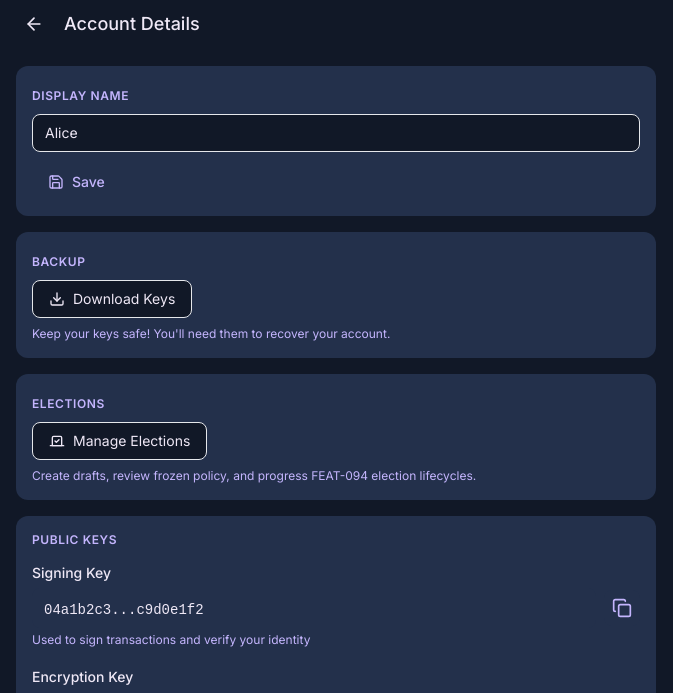
Test: AccountPage › Save Flow › should show error state when transaction fails
Change name
Replace the text in the field showing "Alice" with "New Name" at (336, 133), box x1=32 y1=114 x2=640 y2=152
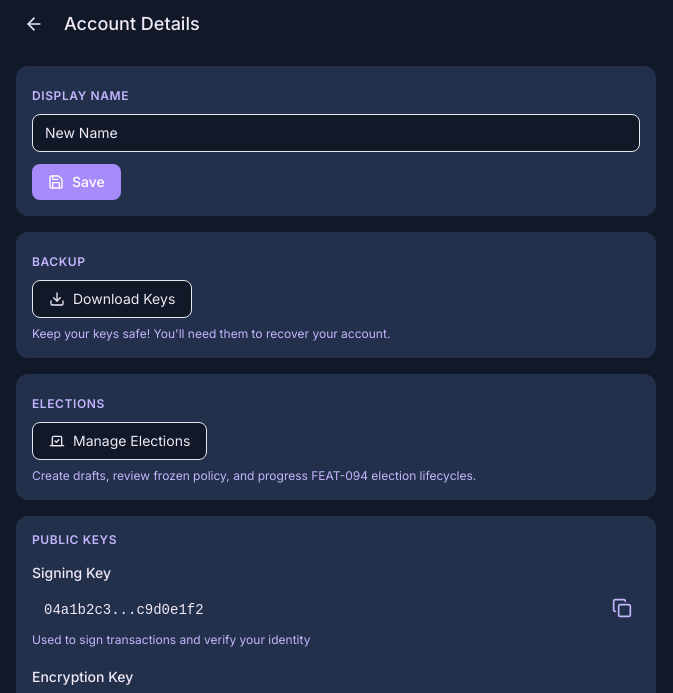
Click save
Click the button "Save" at (76, 182), box x1=32 y1=164 x2=121 y2=200
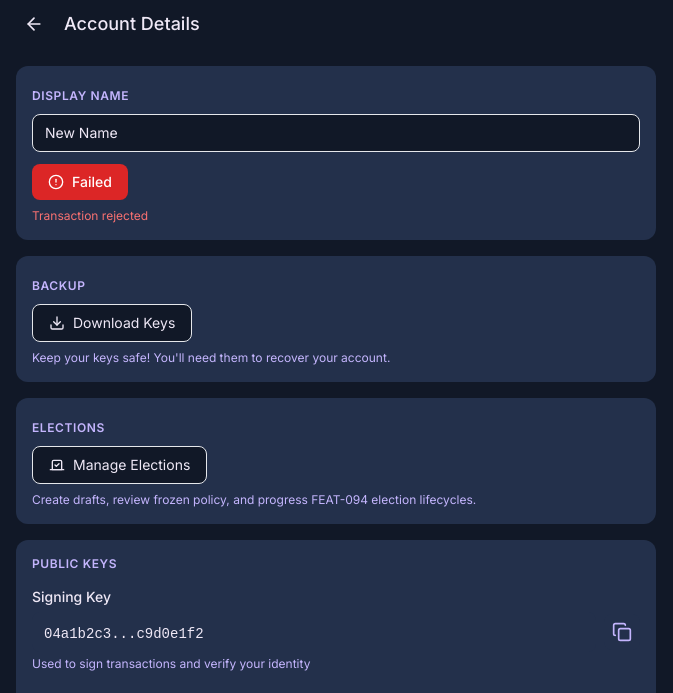
Expected: the text "Failed" is shown, x1=72 y1=172 x2=112 y2=192
Expected: the text "Transaction rejected" is shown, x1=32 y1=208 x2=148 y2=223
